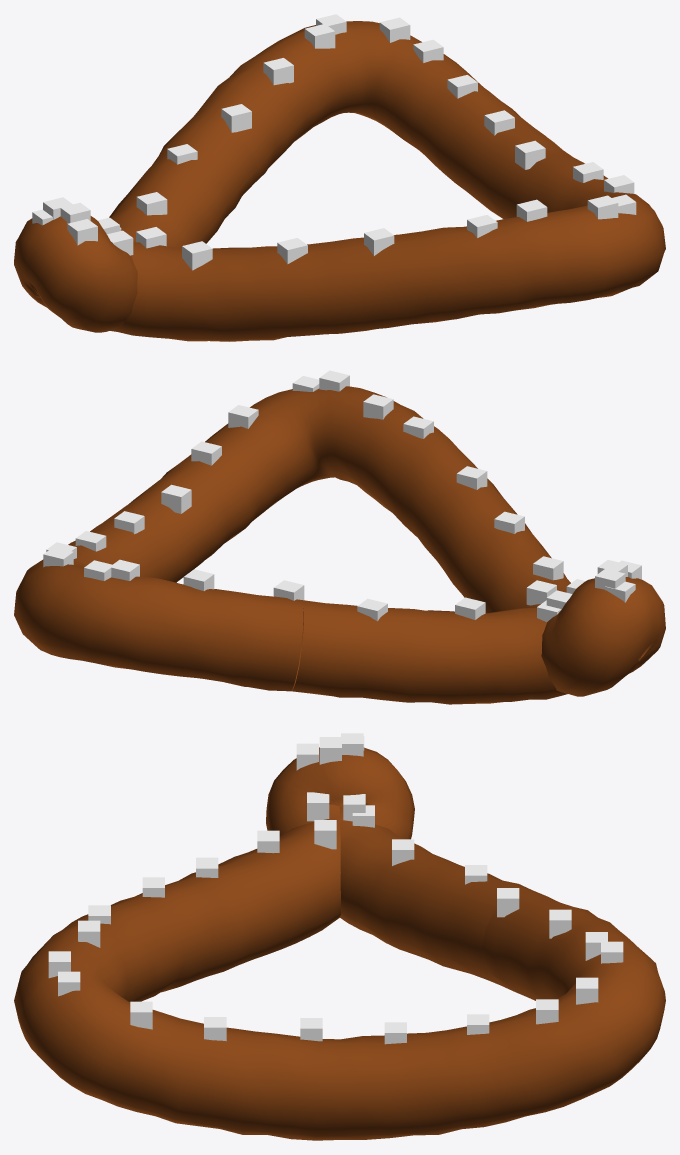
Rendered from items-pretzel.glb.
The picture shows the model from 3 angles, top to bottom: view 1: azimuth 30°, elevation 25°; view 2: azimuth 150°, elevation 25°; view 3: azimuth 270°, elevation 25°; orthographic projection. The views are drawn at different scales.
Parts seen in each view (by area): view 1: Pretzel__Dough, Pretzel__Salt; view 2: Pretzel__Dough, Pretzel__Salt; view 3: Pretzel__Dough, Pretzel__Salt.
Part boxes in pixels (left/top/right/bottom): Pretzel__Dough: left=14, top=21, right=665, bottom=341; Pretzel__Salt: left=32, top=14, right=636, bottom=270; Pretzel__Dough: left=14, top=386, right=665, bottom=704; Pretzel__Salt: left=43, top=370, right=641, bottom=621; Pretzel__Dough: left=14, top=747, right=665, bottom=1140; Pretzel__Salt: left=48, top=733, right=623, bottom=1044.
Bounding box in the file's own units: 6.78 × 1.6 × 6.41.
